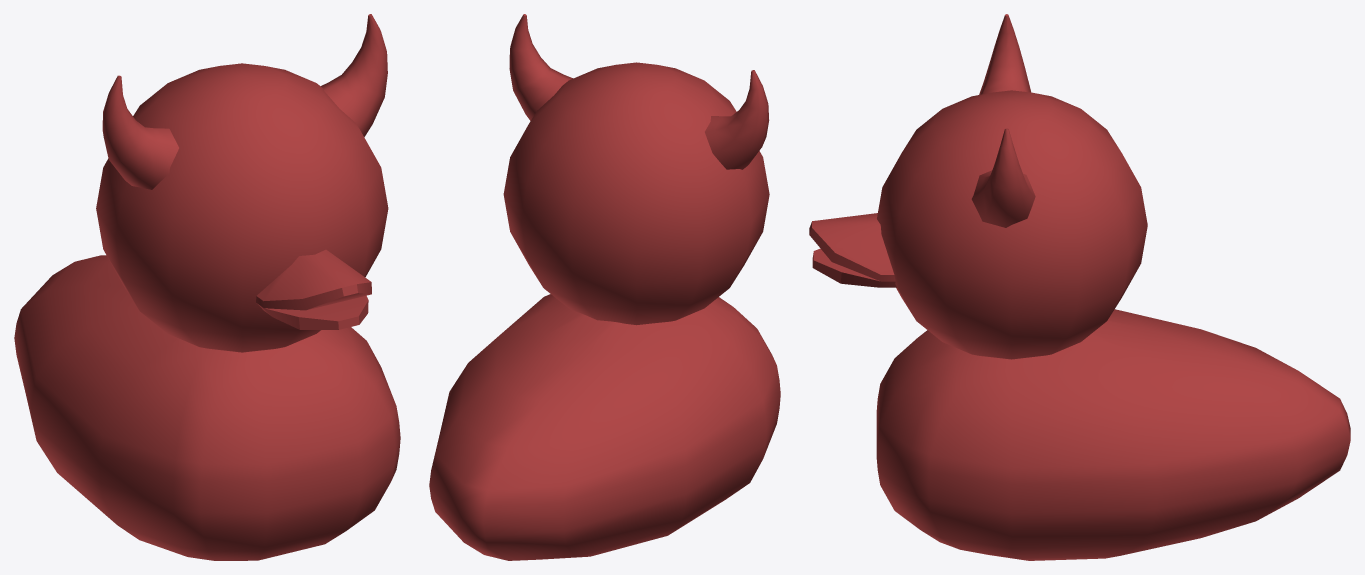
File: RubberDuck_03_001.fbx
The picture shows the model from 3 angles, left to right: view 1: azimuth 30°, elevation 25°; view 2: azimuth 150°, elevation 25°; view 3: azimuth 270°, elevation 25°; orthographic projection. The views are drawn at different scales.
Visible parts, largest first — view 1: RubberDuck_03_001; view 2: RubberDuck_03_001; view 3: RubberDuck_03_001.
Boxes of the visible parts, bbox=[...] form: RubberDuck_03_001: bbox=[14, 14, 400, 560]; RubberDuck_03_001: bbox=[429, 14, 780, 560]; RubberDuck_03_001: bbox=[809, 14, 1350, 560].
Size of the model in its own units: 32.24 by 53.75 by 56.86.
